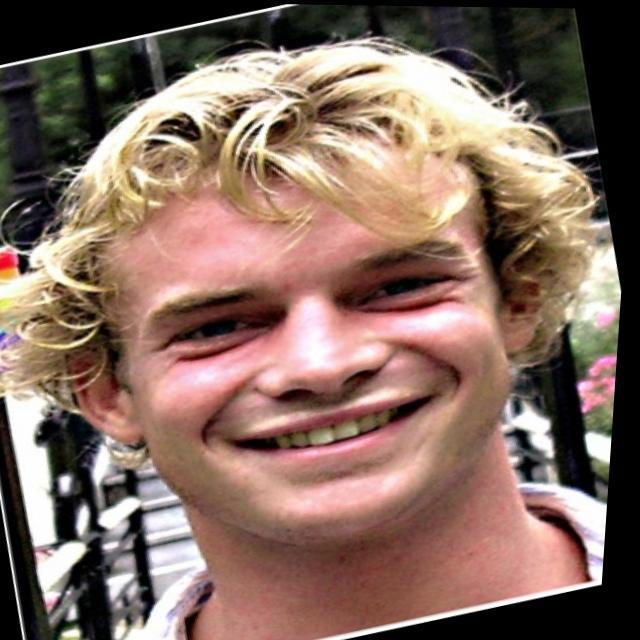Nonhelmet: (74, 38, 560, 566)
